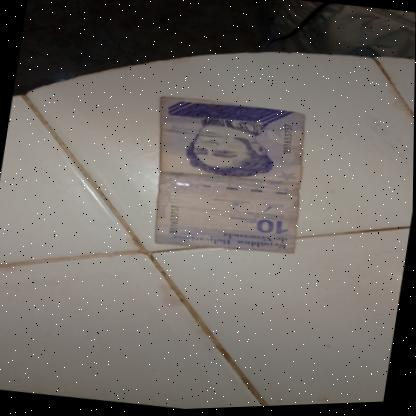vef_front: (138, 93, 318, 265)
